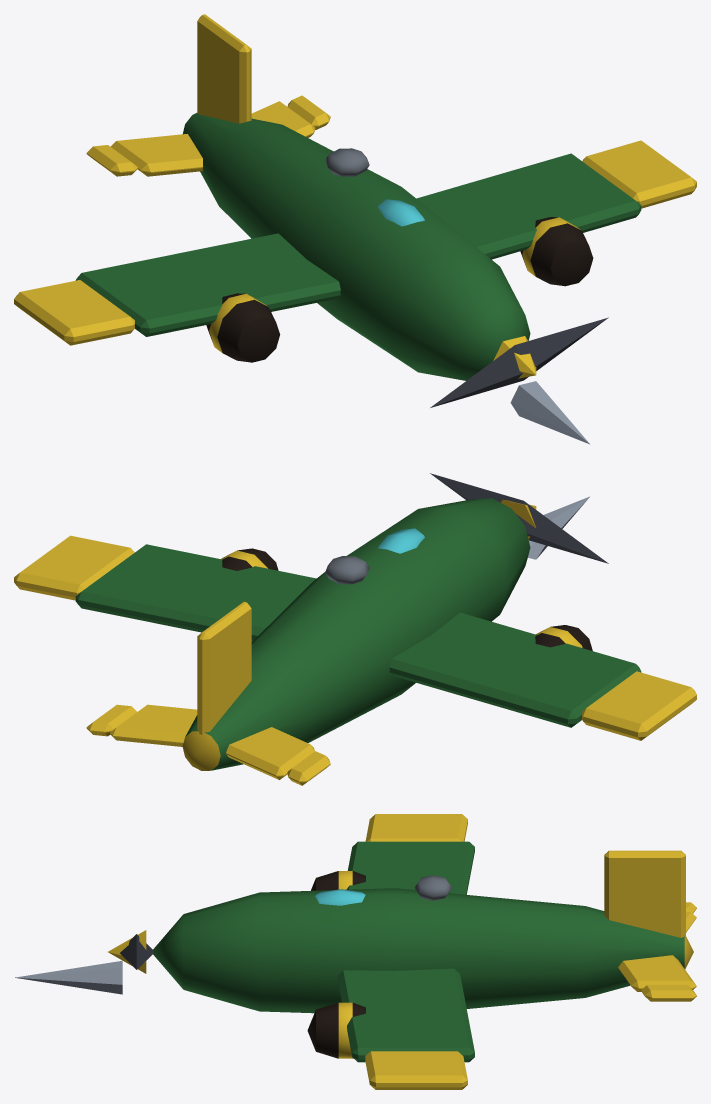
3 views of the same model, one above another, from view 1: azimuth 30°, elevation 25°; view 2: azimuth 150°, elevation 25°; view 3: azimuth 270°, elevation 25° (orthographic). The views are drawn at different scales.
Visible parts, largest first — view 1: as_0_base, as_1_torreta; view 2: as_0_base, as_1_torreta; view 3: as_0_base, as_1_torreta.
Part boxes in pixels (x1,y1,x2,y2): as_0_base: (14, 14, 696, 444); as_1_torreta: (430, 317, 608, 407); as_0_base: (14, 496, 696, 785); as_1_torreta: (430, 473, 608, 563); as_0_base: (15, 814, 696, 1089); as_1_torreta: (108, 930, 154, 973).
Size of the model in its own units: 1.33 by 0.3714 by 1.45.
